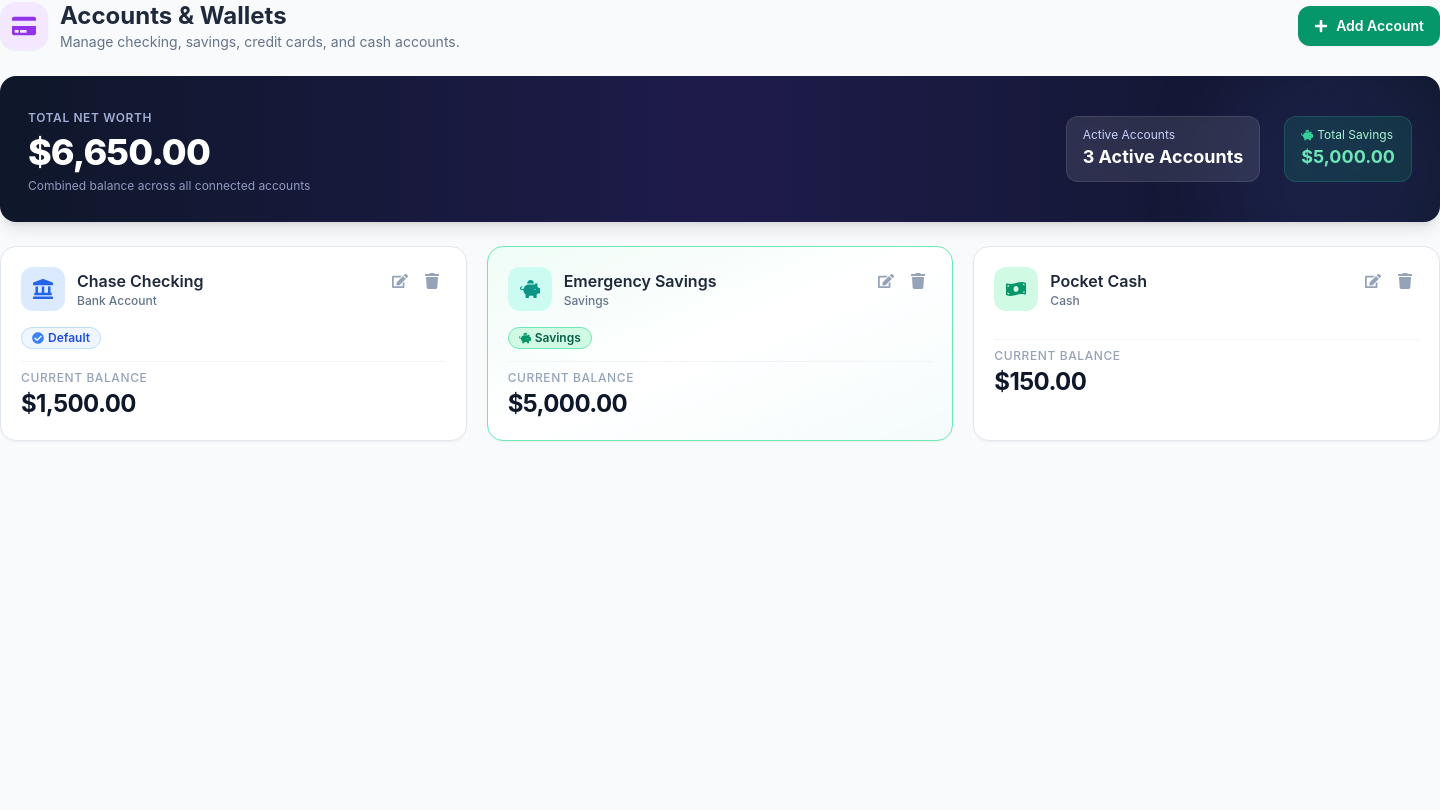
AccountsPage Component › opens AccountModal in Edit mode when Edit button on an AccountCard is clicked
The width and height of the screenshot is (1440, 810).
Click the 1st button with test id "edit-account-btn" at x=400, y=281, box [386,267,414,295]
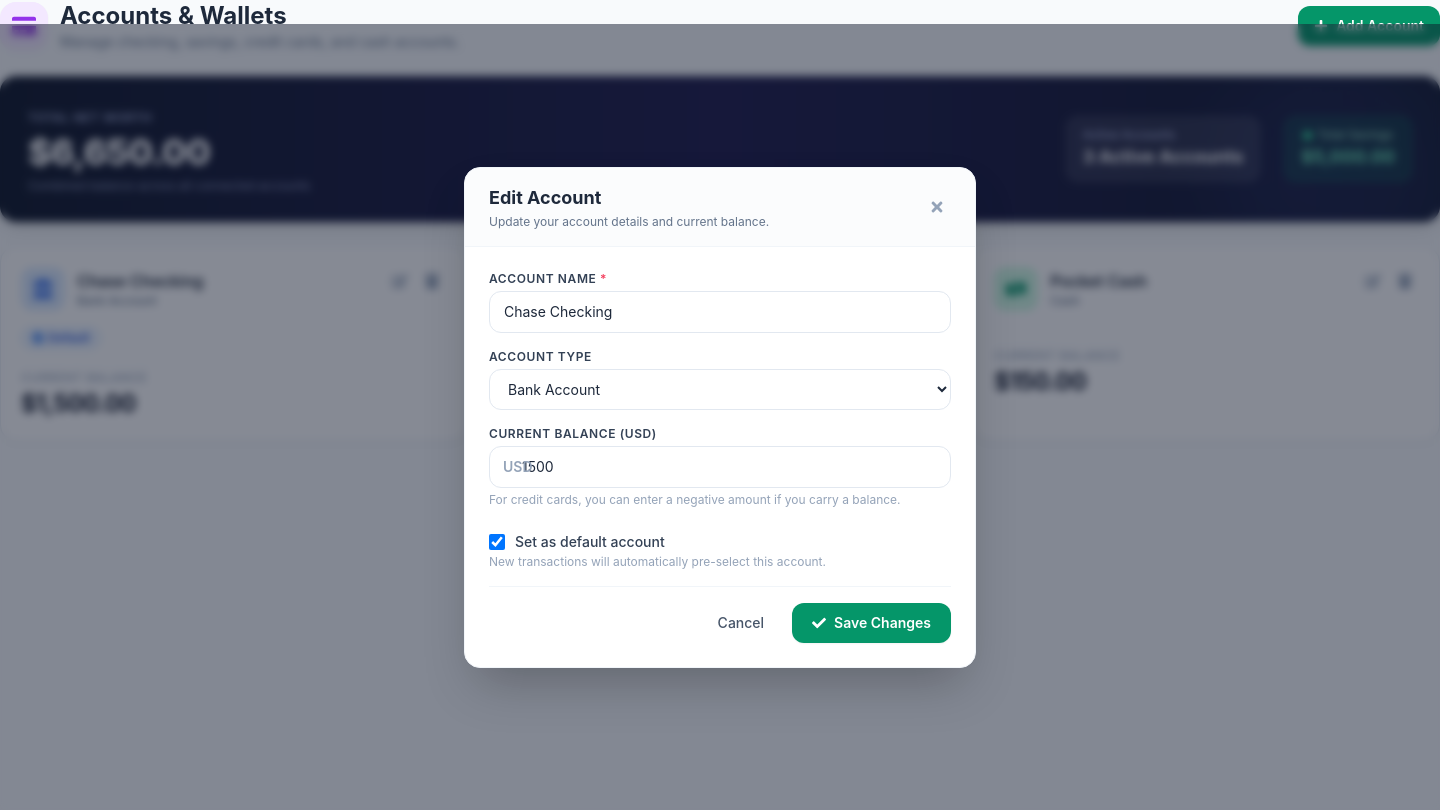
Expected: the dialog with test id "account-modal" is shown
Expected: the heading "Edit Account" is shown, [489,186,601,208]
Expected: the field showing "Chase Checking" is shown, [489,290,951,332]
